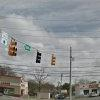Traffic light: (7, 33, 63, 75)
